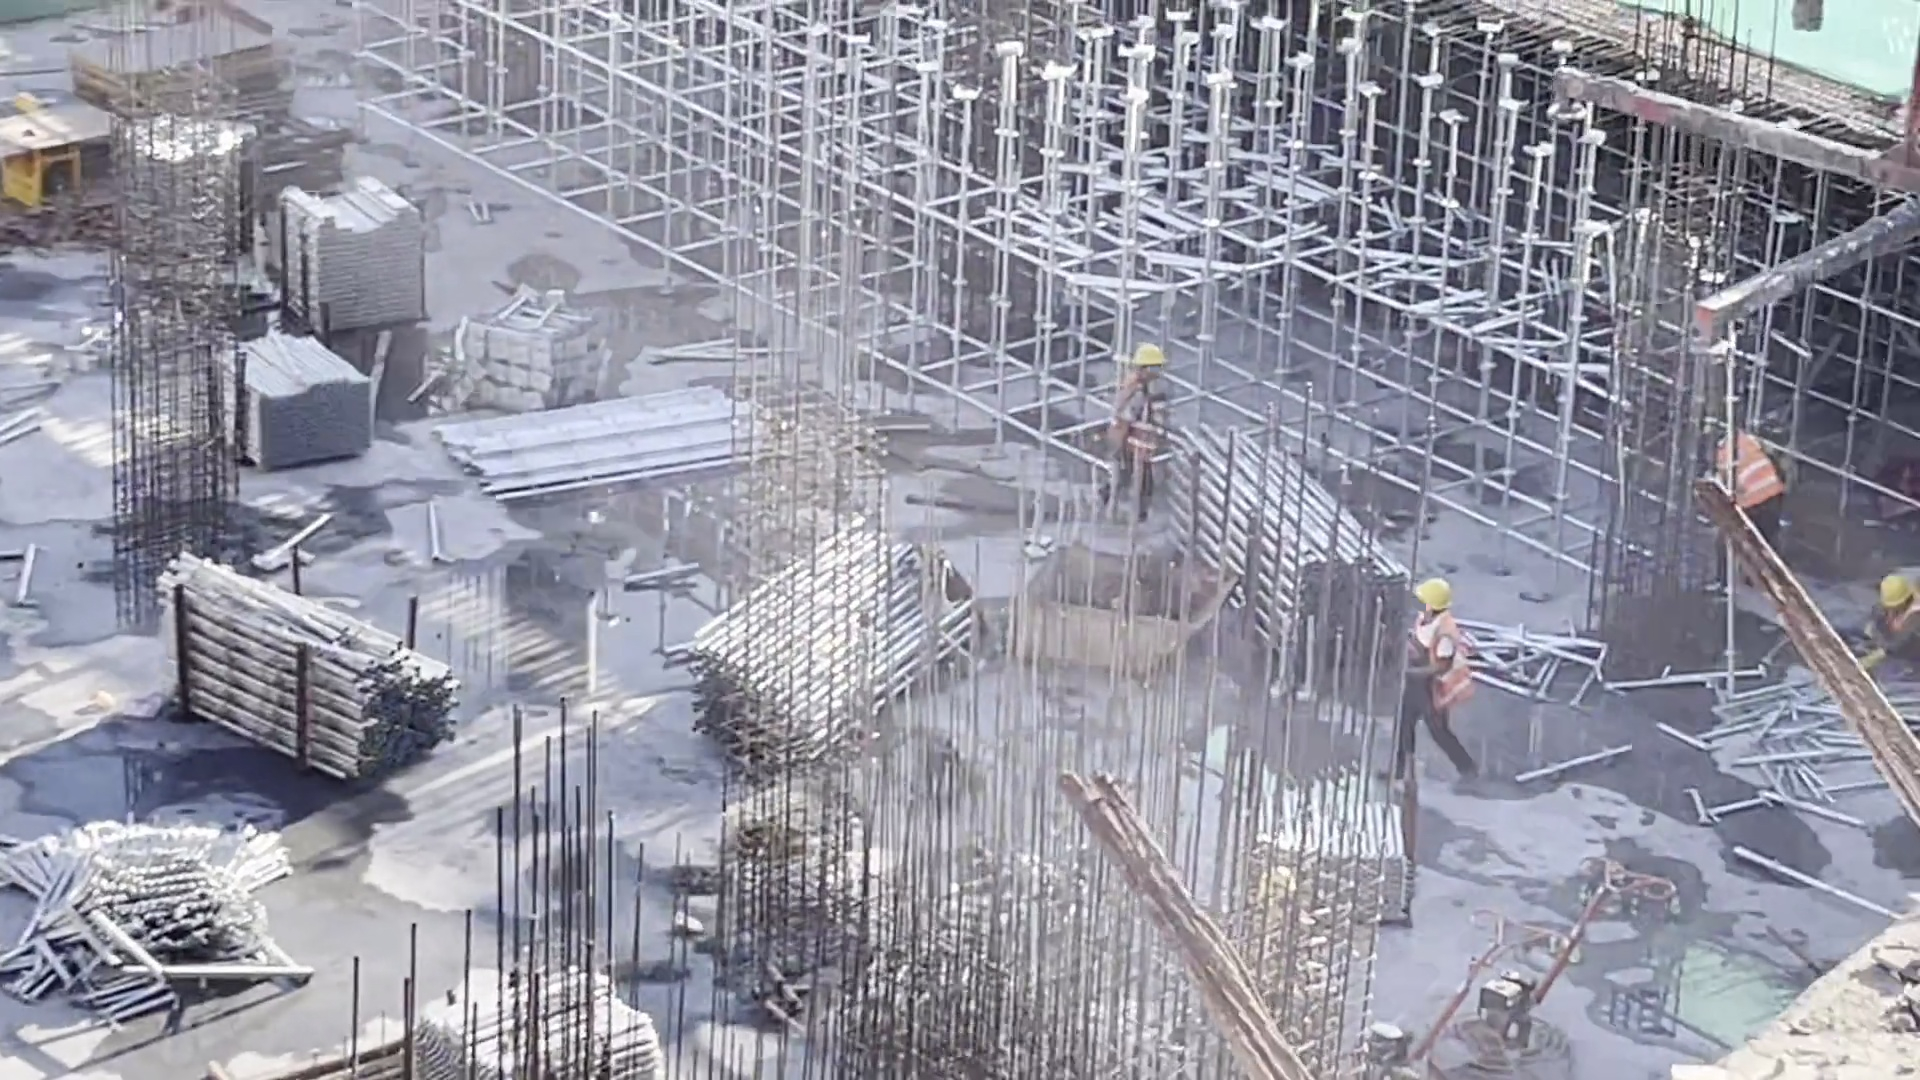cutter: (1, 96, 114, 195)
helmet: (1418, 585, 1469, 615), (1878, 576, 1913, 609), (1127, 346, 1169, 371)
hopper: (1011, 558, 1198, 666)
person: (1695, 413, 1814, 619), (1386, 578, 1492, 786), (1095, 346, 1180, 512), (1851, 560, 1920, 675)
scaffold: (156, 584, 448, 783), (1177, 428, 1388, 691), (723, 528, 937, 737), (36, 842, 303, 1001), (443, 392, 764, 481), (275, 188, 420, 355), (427, 977, 615, 1080), (1265, 792, 1423, 911), (232, 336, 373, 468)
vest: (1413, 622, 1470, 714), (1711, 441, 1782, 513), (1108, 387, 1166, 473), (1880, 606, 1920, 638)
